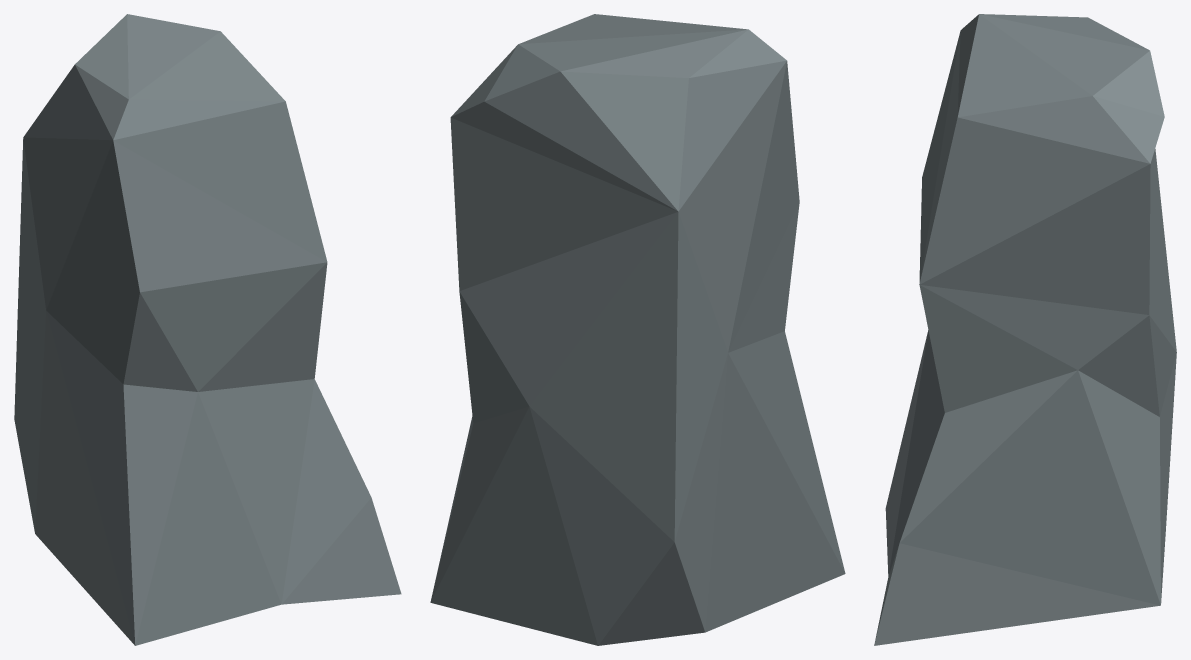
The model's file is BigRock_01.fbx.
3 renders of one model, left to right at view 1: azimuth 30°, elevation 25°; view 2: azimuth 150°, elevation 25°; view 3: azimuth 270°, elevation 25°, orthographic. The views are drawn at different scales.
Parts seen in each view (by area): view 1: BigRock_01; view 2: BigRock_01; view 3: BigRock_01.
Boxes of the visible parts, x1,y1,x2,y2 form: BigRock_01: (14,14,401,645); BigRock_01: (430,14,845,645); BigRock_01: (874,14,1176,645).
Bounding box in the file's own units: 147 × 277 × 145.
